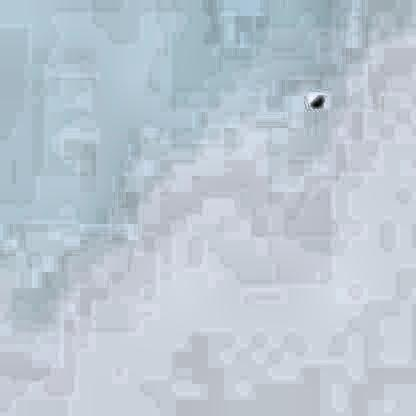golfball: (307, 88, 320, 106)
